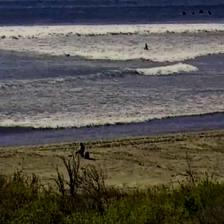surfer: (64, 52, 71, 57), (198, 9, 204, 14), (144, 44, 149, 50), (208, 11, 212, 16), (182, 11, 187, 15), (192, 12, 196, 16)
